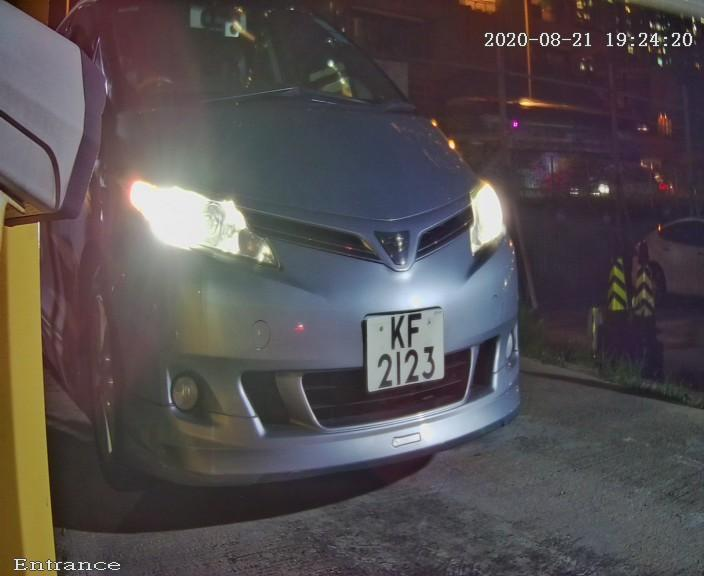Car: (32, 1, 547, 528)
License Plate: (359, 304, 450, 399)
